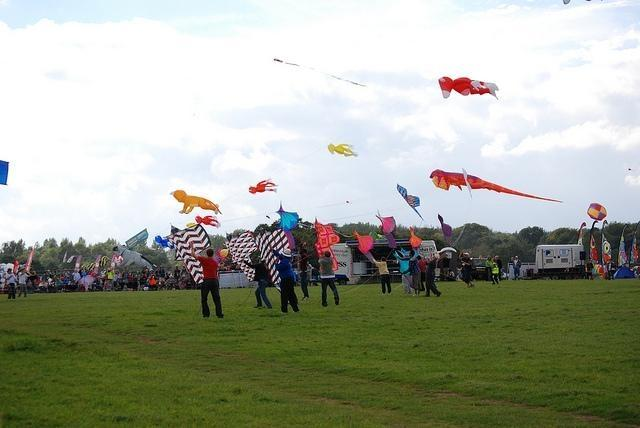bus: (536, 244, 586, 279)
